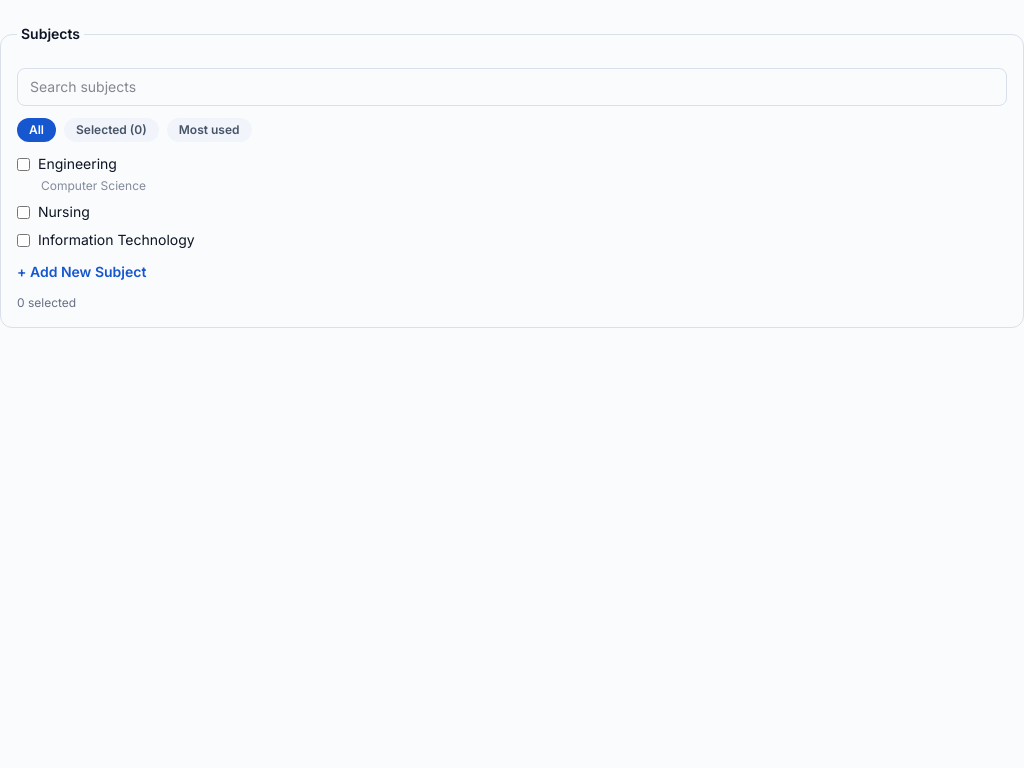
country taxonomy picker › surfaces a creation failure without closing the dialog
The image size is (1024, 768).
Click the button "+ Add New Subject": x=82, y=272 [17,262,146,282]
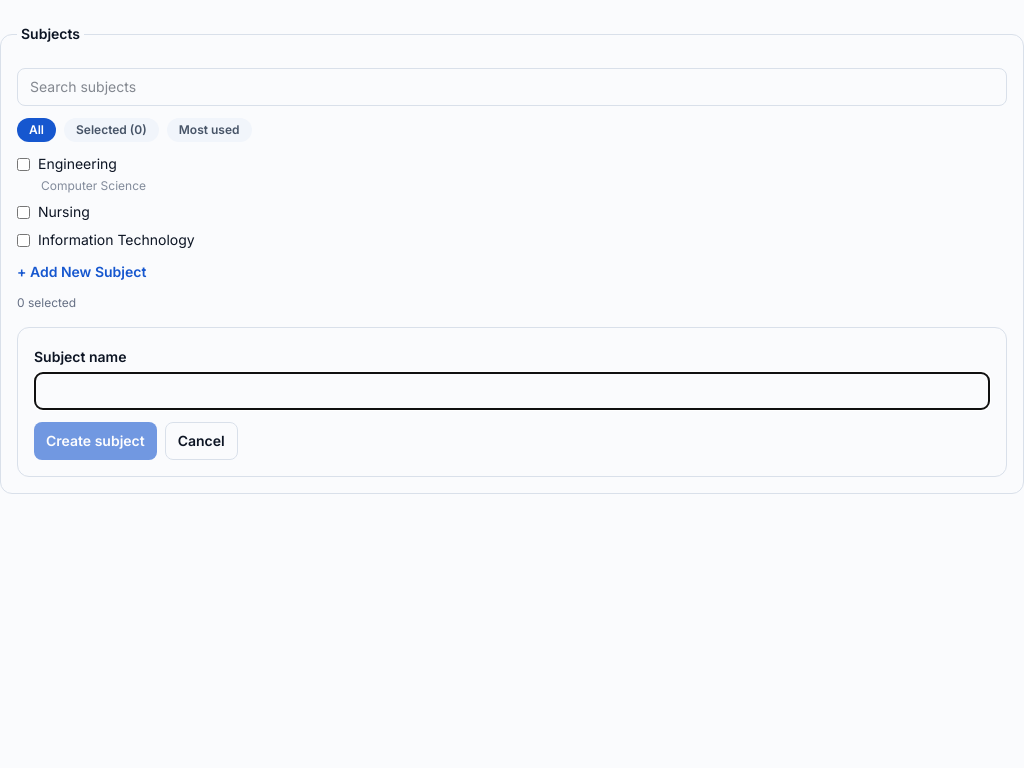
In the field labelled "Subject name": x=512, y=391 [34,372,990,410], type "Brand New Thing"
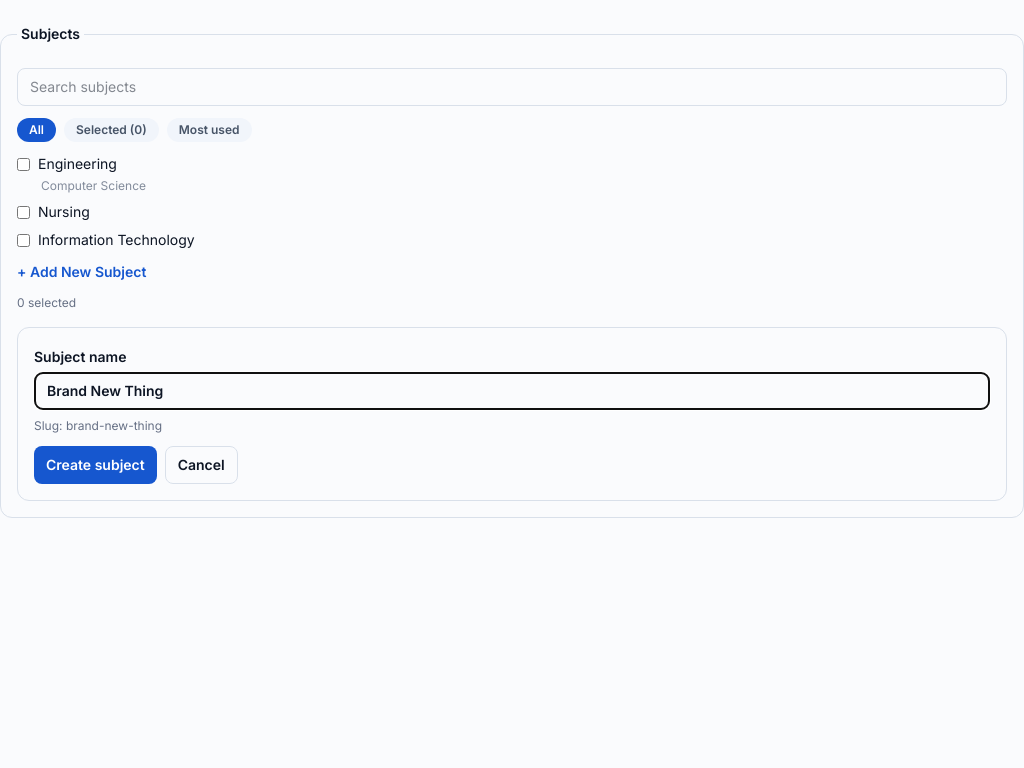
Click the button "Create subject": x=95, y=465 [34,446,157,484]
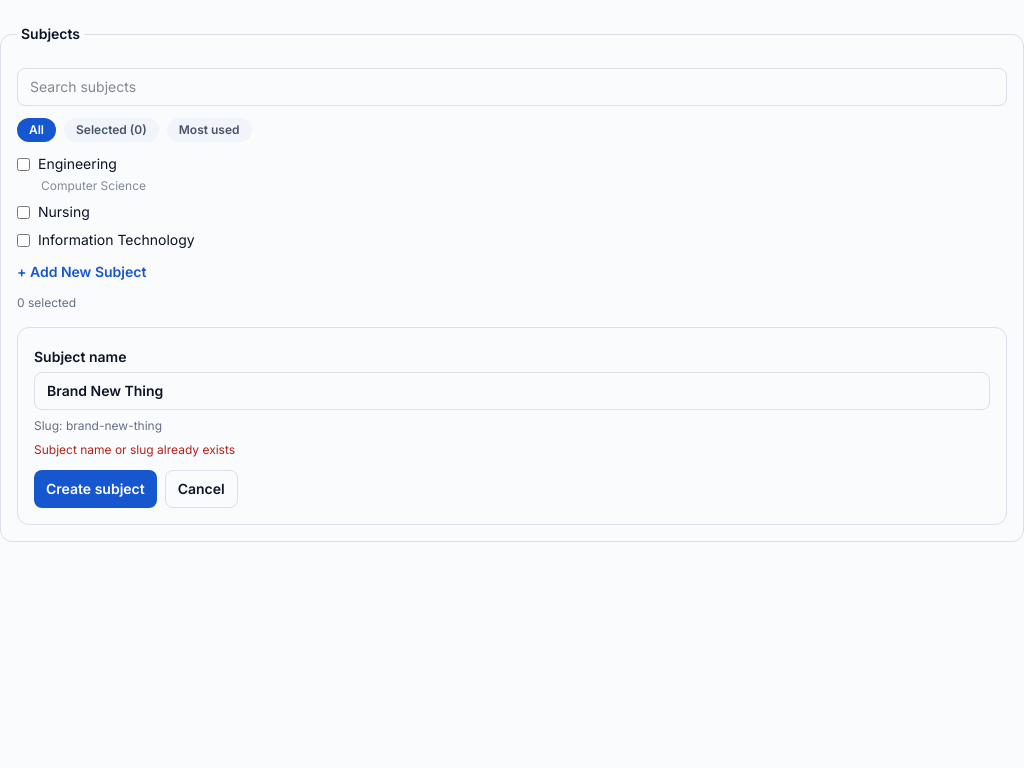
expect the dialog is shown: met, box [17,327,1007,525]
expect the message shows "already exists": met, box [34,442,235,457]
